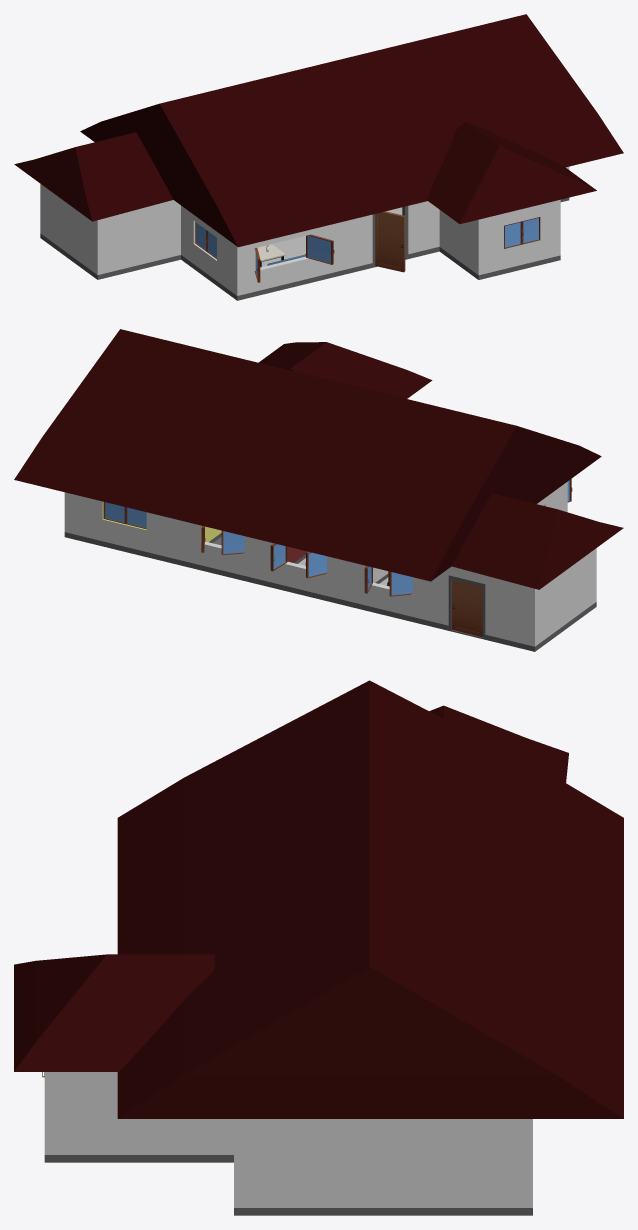
File: SM_House modeul 2.fbx
3 views of the same model, one above another, from view 1: azimuth 30°, elevation 25°; view 2: azimuth 150°, elevation 25°; view 3: azimuth 270°, elevation 25° (orthographic). The views are drawn at different scales.
Visible parts, largest first — view 1: Roof, Wall, Door.004, Window_R.004, Floor, Window_L.006, Window_R.006; view 2: Roof, Wall, Door.006, Window_L, Window_L.002, Window_L.001; view 3: Roof, Wall.
Boxes of the visible parts, <box> form: Roof: <box>14,14,623,247</box>; Wall: <box>40,166,569,300</box>; Door.004: <box>375,211,405,272</box>; Window_R.004: <box>306,234,334,264</box>; Floor: <box>261,207,402,266</box>; Window_L.006: <box>504,221,522,248</box>; Window_R.006: <box>522,217,540,244</box>; Roof: <box>14,329,623,589</box>; Wall: <box>64,482,596,651</box>; Door.006: <box>451,579,482,636</box>; Window_L: <box>389,571,412,596</box>; Window_L.002: <box>221,530,244,554</box>; Window_L.001: <box>305,551,326,578</box>; Roof: <box>14,680,623,1118</box>; Wall: <box>44,1072,532,1215</box>.
Size of the model in its own units: 24.58 by 7.78 by 17.31.
